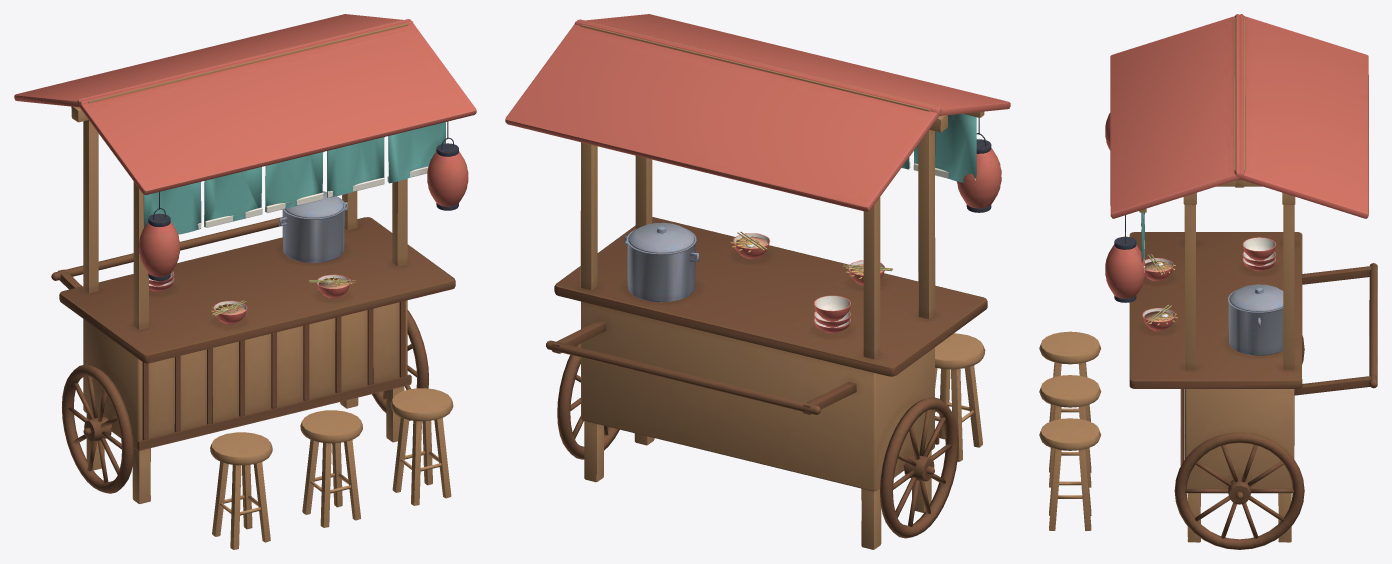
File: ramen-stand-light.glb
3 views of the same model, side by side, from view 1: azimuth 30°, elevation 25°; view 2: azimuth 150°, elevation 25°; view 3: azimuth 270°, elevation 25° (orthographic). The views are drawn at different scales.
Parts seen in each view (by area): view 1: ramen-stand_body; view 2: ramen-stand_body; view 3: ramen-stand_body.
Part boxes in pixels (x1=…): ramen-stand_body: x1=14, y1=14, x2=476, y2=549; ramen-stand_body: x1=505, y1=14, x2=1010, y2=549; ramen-stand_body: x1=1039, y1=14, x2=1377, y2=549.
Size of the model in its own units: 1.92 by 2.16 by 1.72.
Materials: 1 (1 with a texture image).
